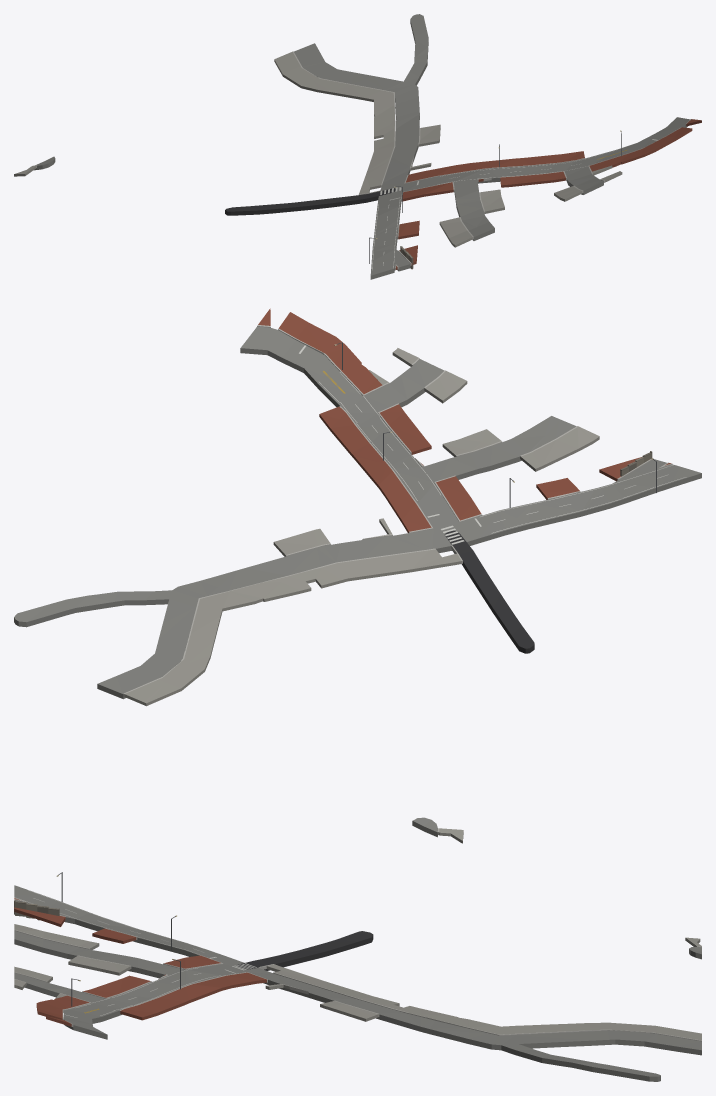
3 renders of one model, top to bottom at view 1: azimuth 30°, elevation 25°; view 2: azimuth 150°, elevation 25°; view 3: azimuth 270°, elevation 25°, orthographic. The views are drawn at different scales.
Size of the model in its own units: 128 by 42.38 by 146.
